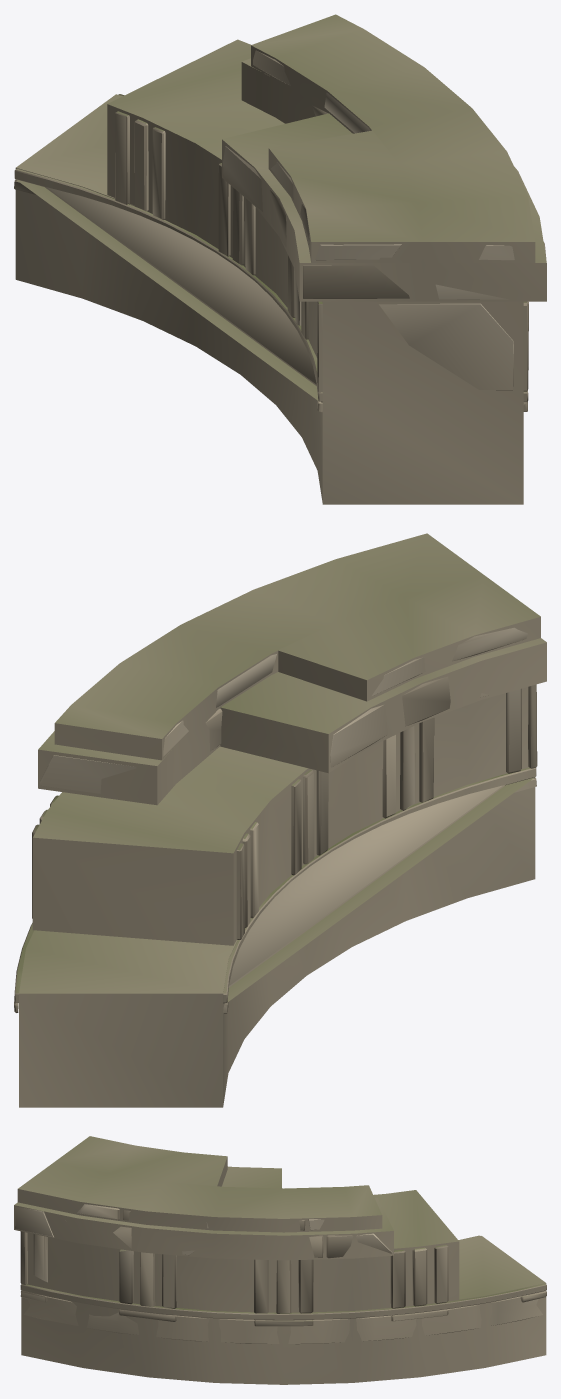
The model's file is tholos_lintel_l.glb.
3 views of the same model, one above another, from view 1: azimuth 30°, elevation 25°; view 2: azimuth 150°, elevation 25°; view 3: azimuth 270°, elevation 25° (orthographic). The views are drawn at different scales.
Parts seen in each view (by area): view 1: tholos_lintel_l_far, tholos_lintel_l; view 2: tholos_lintel_l_far, tholos_lintel_l; view 3: tholos_lintel_l_far, tholos_lintel_l.
Boxes of the visible parts, <box> form: tholos_lintel_l_far: <box>15,14,546,504</box>; tholos_lintel_l: <box>14,50,546,411</box>; tholos_lintel_l_far: <box>19,533,546,1107</box>; tholos_lintel_l: <box>14,627,537,1013</box>; tholos_lintel_l_far: <box>14,1136,546,1384</box>; tholos_lintel_l: <box>15,1204,546,1344</box>.
Size of the model in its own units: 8.45 by 7.5 by 21.43.
